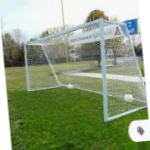goals: (22, 17, 147, 120)
